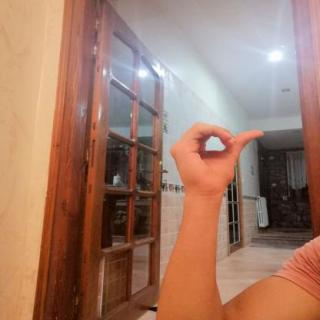WAW: (163, 118, 272, 202)
